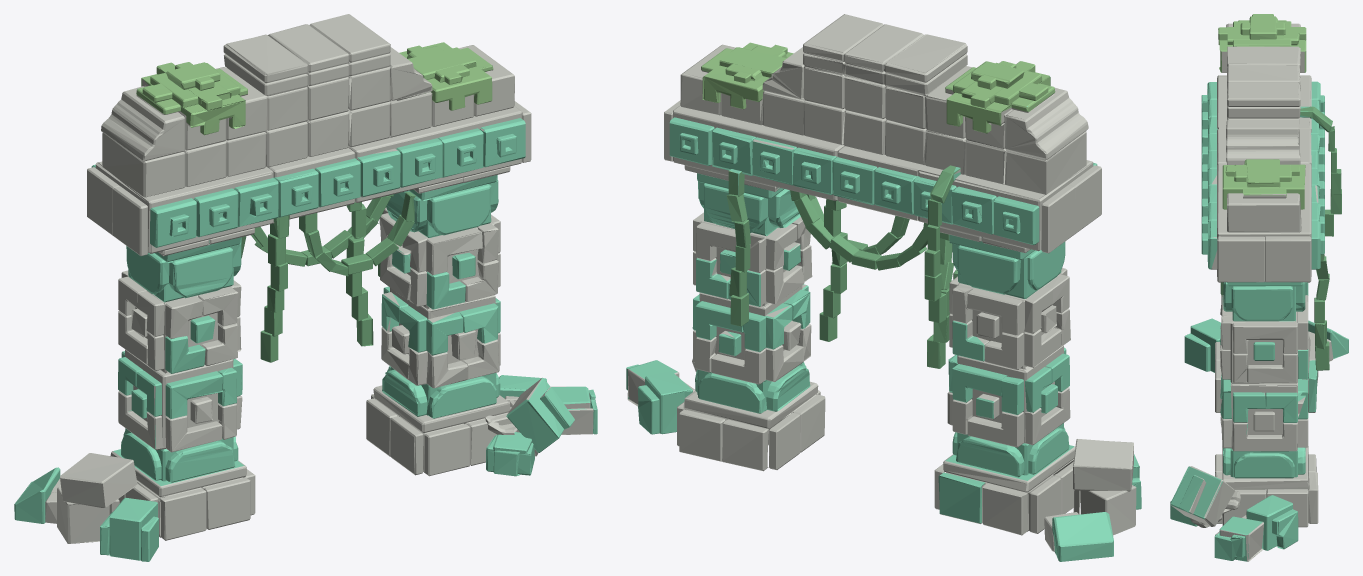
File: Prop_TempleGate_Plastic.glb
3 views of the same model, side by side, from view 1: azimuth 30°, elevation 25°; view 2: azimuth 150°, elevation 25°; view 3: azimuth 270°, elevation 25° (orthographic). The views are drawn at different scales.
Visible parts, largest first — view 1: Stone, Jade, DarkGreen, Moss; view 2: Stone, Jade, DarkGreen, Moss; view 3: Stone, Jade, Moss, DarkGreen.
Boxes of the visible parts, x1=… form: Stone: x1=45, y1=14, x2=593, y2=543; Jade: x1=14, y1=65, x2=597, y2=561; DarkGreen: x1=241, y1=192, x2=415, y2=362; Moss: x1=136, y1=42, x2=493, y2=135; Stone: x1=627, y1=14, x2=1136, y2=551; Jade: x1=626, y1=76, x2=1141, y2=561; DarkGreen: x1=726, y1=77, x2=1050, y2=368; Moss: x1=701, y1=42, x2=1055, y2=173; Stone: x1=1171, y1=23, x2=1333, y2=561; Jade: x1=1170, y1=81, x2=1348, y2=561; Moss: x1=1218, y1=14, x2=1306, y2=209; DarkGreen: x1=1220, y1=106, x2=1341, y2=370.
Bounding box in the file's own units: 0.9497 × 0.7363 × 0.3164.
